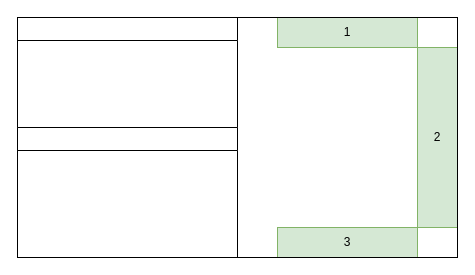
Image size: 475x275. Some labels were removed from this diagram. Here are the shapes that lost their labels. From the top down, the box of each, then its label:
(16, 16, 238, 128): Attached Tile 1
(16, 126, 238, 258): Attached Tile 2
